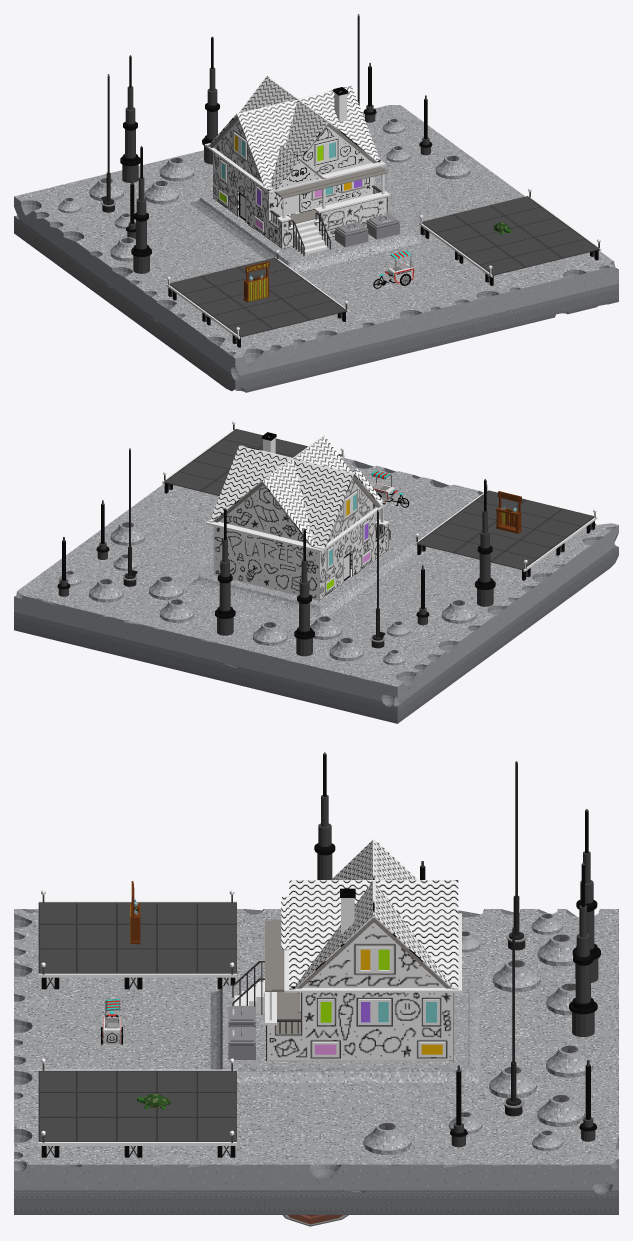
3 views of the same model, one above another, from view 1: azimuth 30°, elevation 25°; view 2: azimuth 150°, elevation 25°; view 3: azimuth 270°, elevation 25° (orthographic). The views are drawn at different scales.
Parts seen in each view (by area): view 1: Cube.027, Cube.879, Cube.026, Cube.025, Cube.028, Cylinder.021, Cylinder.020, Cylinder.017, OBJRANDOM_LEMONADE_STAND, VEHICLES_SNOWBAL_BIKE, Cube.029, Cube.030 (+5 smaller); view 2: Cube.027, Cube.879, Cube.025, Cube.028, Cube.026, Cylinder.020, Cylinder.017, Cylinder.021, OBJRANDOM_LEMONADE_STAND, Cylinder.029, Cylinder.025, Cylinder.031 (+8 smaller); view 3: Cube.027, Cube.879, Cube.026, Cube.025, Cube.028, Cylinder.017, Cylinder.020, Cylinder.021, Cylinder.033, Cylinder.031, Cylinder.029, Cylinder.026 (+9 smaller).
Part boxes in pixels (bbox=[...]): Cube.027: bbox=[14, 105, 618, 392]; Cube.879: bbox=[204, 76, 390, 255]; Cube.026: bbox=[419, 188, 601, 285]; Cube.025: bbox=[166, 250, 348, 347]; Cube.028: bbox=[190, 194, 422, 272]; Cylinder.021: bbox=[131, 146, 151, 273]; Cylinder.020: bbox=[120, 55, 140, 182]; Cylinder.017: bbox=[202, 36, 219, 164]; OBJRANDOM_LEMONADE_STAND: bbox=[243, 261, 269, 302]; VEHICLES_SNOWBAL_BIKE: bbox=[373, 250, 413, 288]; Cube.029: bbox=[335, 221, 368, 247]; Cube.030: bbox=[366, 214, 399, 239]; Cube.027: bbox=[14, 458, 618, 723]; Cube.879: bbox=[206, 432, 390, 600]; Cube.025: bbox=[415, 483, 597, 580]; Cube.028: bbox=[189, 535, 417, 617]; Cube.026: bbox=[162, 421, 344, 495]; Cylinder.020: bbox=[294, 528, 314, 656]; Cylinder.017: bbox=[215, 508, 235, 635]; Cylinder.021: bbox=[475, 479, 495, 606]; OBJRANDOM_LEMONADE_STAND: bbox=[496, 491, 521, 533]; Cylinder.029: bbox=[159, 598, 194, 622]; Cylinder.025: bbox=[441, 599, 476, 623]; Cylinder.031: bbox=[89, 578, 123, 602]; Cube.027: bbox=[14, 909, 618, 1214]; Cube.879: bbox=[232, 839, 461, 1060]; Cube.026: bbox=[38, 1058, 236, 1157]; Cube.025: bbox=[38, 890, 236, 989]; Cube.028: bbox=[210, 985, 479, 1082]; Cylinder.017: bbox=[569, 862, 597, 1036]; Cylinder.020: bbox=[572, 809, 600, 982]; Cylinder.021: bbox=[314, 752, 335, 879]; Cylinder.033: bbox=[363, 1122, 411, 1154]; Cylinder.031: bbox=[537, 1094, 584, 1126]; Cylinder.029: bbox=[546, 1044, 593, 1077]; Cylinder.026: bbox=[492, 959, 540, 992].
Size of the model in its own units: 4000 by 2515 by 4000.
48 materials, 11 textured.
